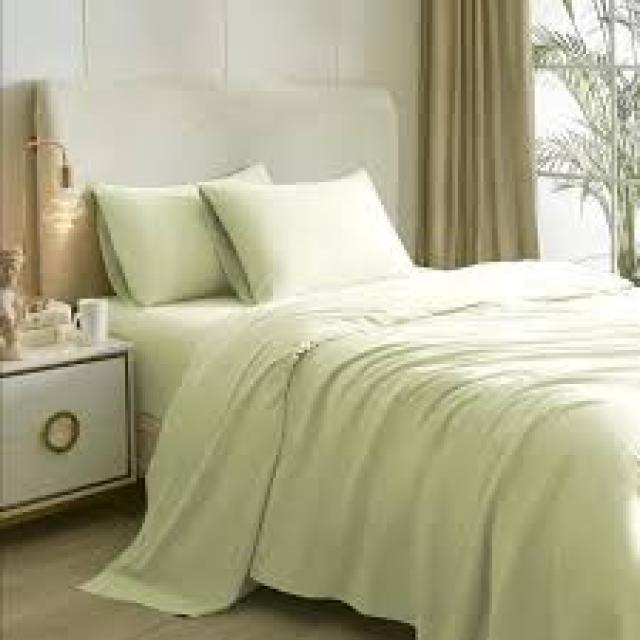bed: (28, 80, 638, 638)
